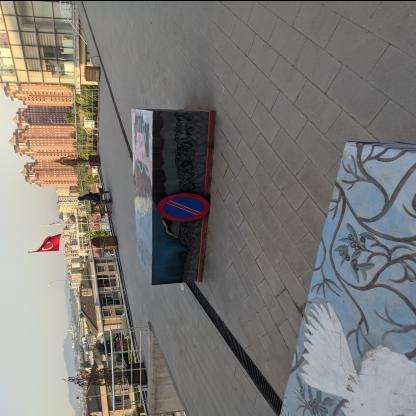No Waiting: (157, 194, 211, 222)
